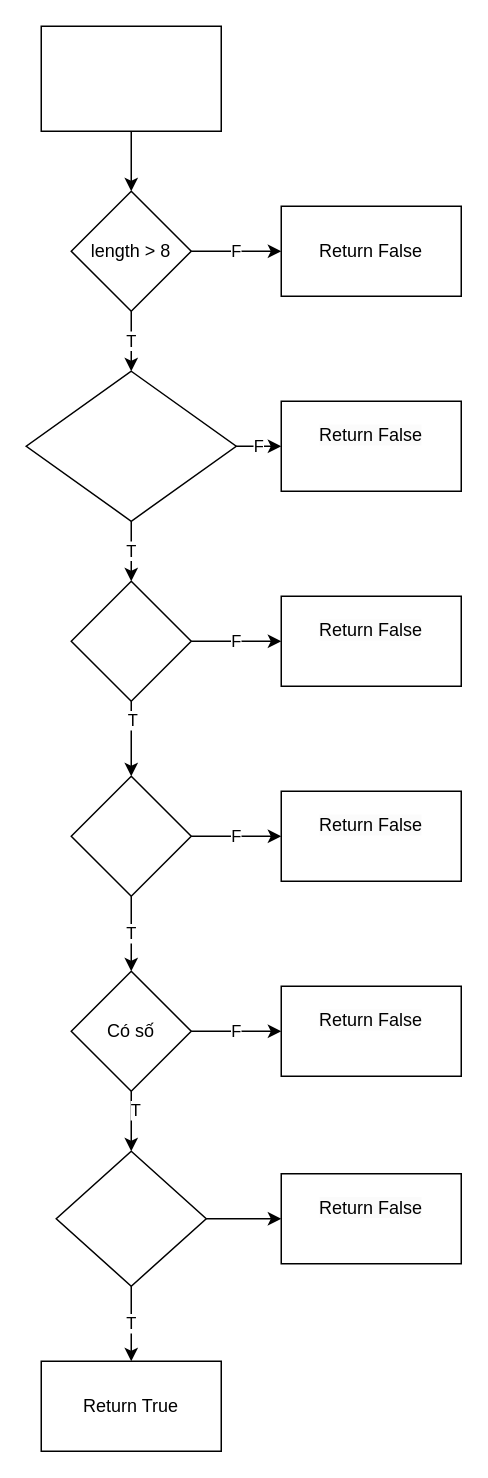
Some shapes in this 488 by 1478 pixel diagram are drawn without their labels. Each missing label, with the box of its shape:
Có kí tự hoa: (70, 775, 191, 896)
Có kí tự thường: (70, 580, 191, 701)
Có kí tự đặc biệt: (55, 1150, 206, 1286)
Không chứa khoảng trắng: (25, 370, 236, 521)
String input: (40, 25, 221, 131)
